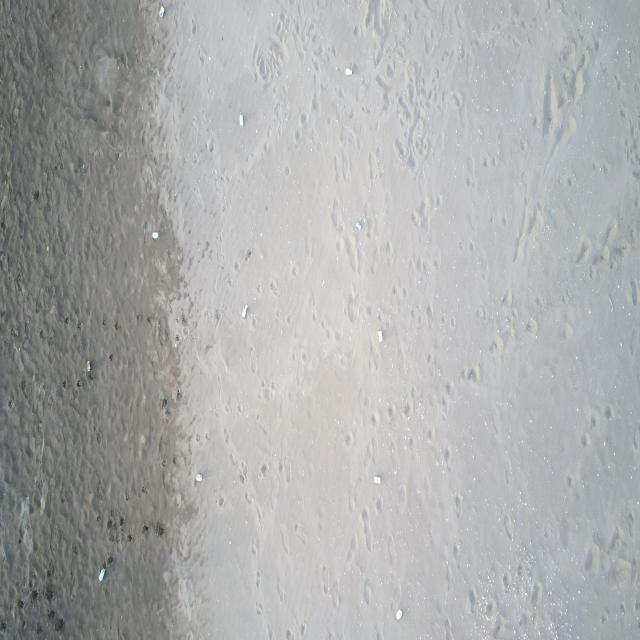Garbage: (353, 218, 364, 230), (98, 564, 105, 580), (376, 328, 383, 342), (240, 304, 247, 318), (395, 608, 402, 620), (85, 360, 91, 372), (344, 67, 352, 75), (373, 475, 380, 484), (159, 4, 164, 16), (195, 472, 201, 482), (238, 113, 243, 125), (151, 231, 158, 238)
